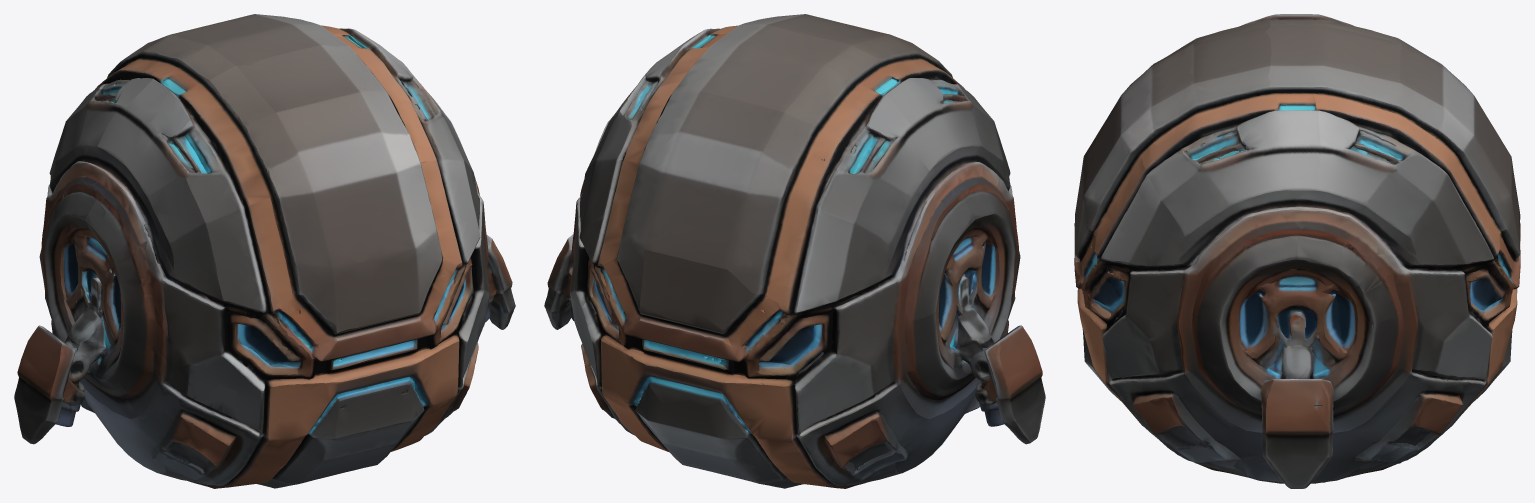
File: golem.glb
3 views of the same model, side by side, from view 1: azimuth 30°, elevation 25°; view 2: azimuth 150°, elevation 25°; view 3: azimuth 270°, elevation 25° (orthographic). The views are drawn at different scales.
Parts seen in each view (by area): view 1: world; view 2: world; view 3: world.
Part boxes in pixels (x1=…): world: x1=14, y1=14, x2=515, y2=488; world: x1=544, y1=14, x2=1045, y2=488; world: x1=1074, y1=14, x2=1520, y2=488.
Bounding box in the file's own units: 0.3 × 0.2471 × 0.2487.
Materials: 1 (1 with a texture image).
